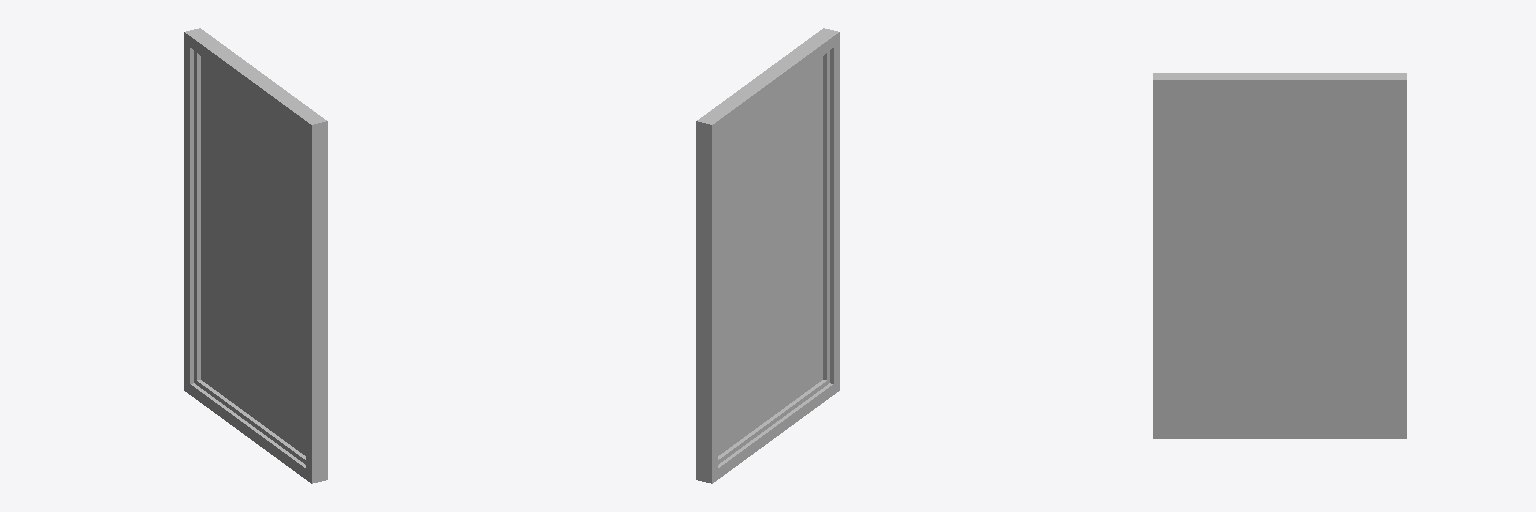
File: mirror.obj
3 views of the same model, side by side, from view 1: azimuth 30°, elevation 25°; view 2: azimuth 150°, elevation 25°; view 3: azimuth 270°, elevation 25° (orthographic).
Parts seen in each view (by area): view 1: pCube72; view 2: pCube72; view 3: pCube72.
Part boxes in pixels (bbox=[...]): pCube72: bbox=[184, 28, 327, 483]; pCube72: bbox=[696, 28, 839, 483]; pCube72: bbox=[1153, 73, 1406, 438].
Bounding box in the file's own units: 0.0466 × 1 × 0.6429.